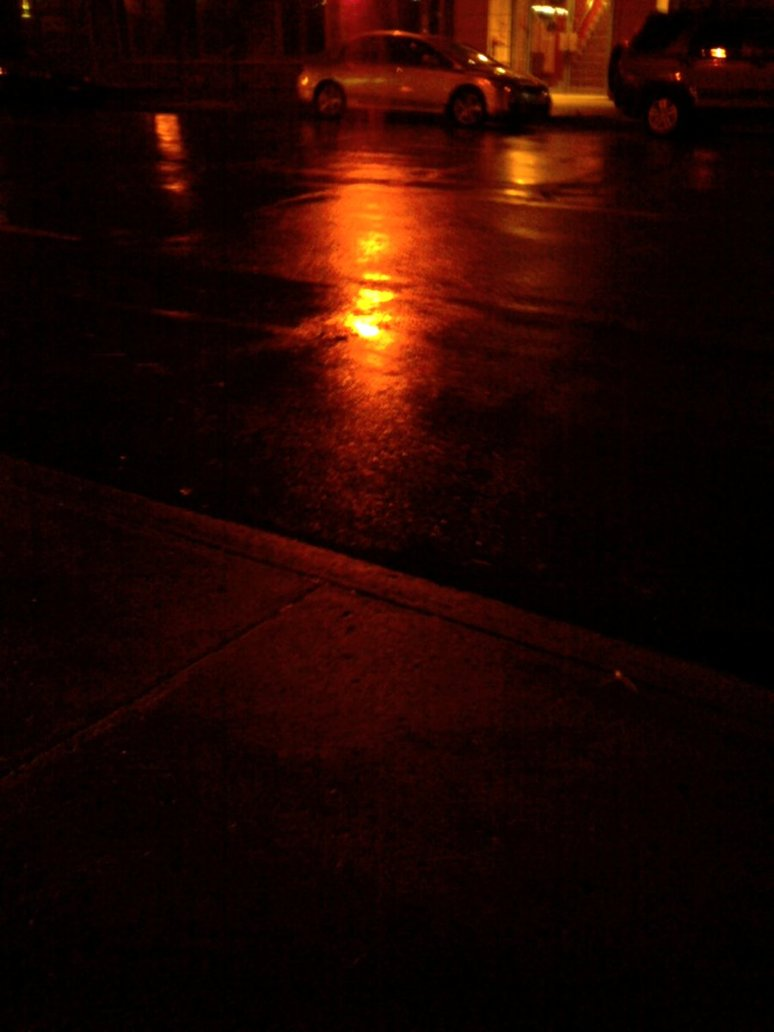car: (601, 7, 764, 148)
